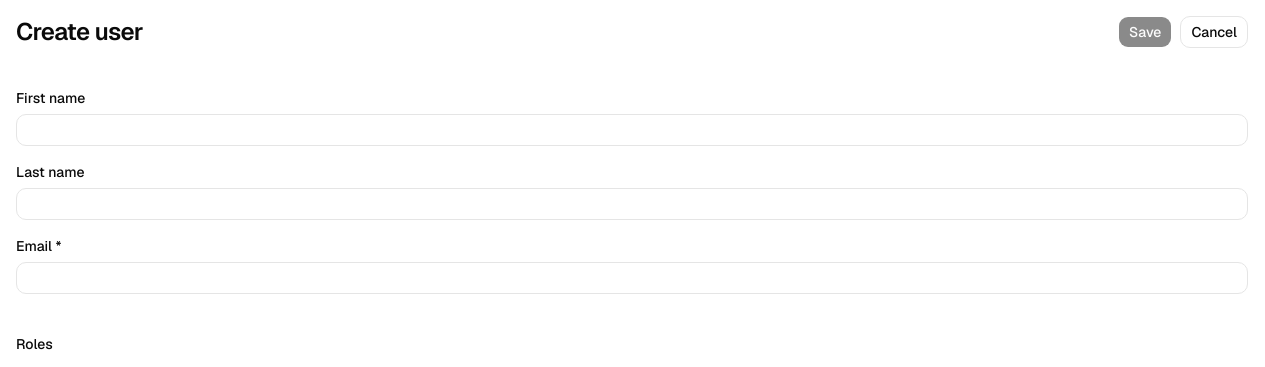
it: CreateUserForm › keeps submit disabled until the draft is dirty
expect the button with test id "create-user-submit" is disabled: met, box [1118,16,1172,48]
In the field with test id "create-user-email": (632, 278) [16,262,1248,294], type "ada@example.com"
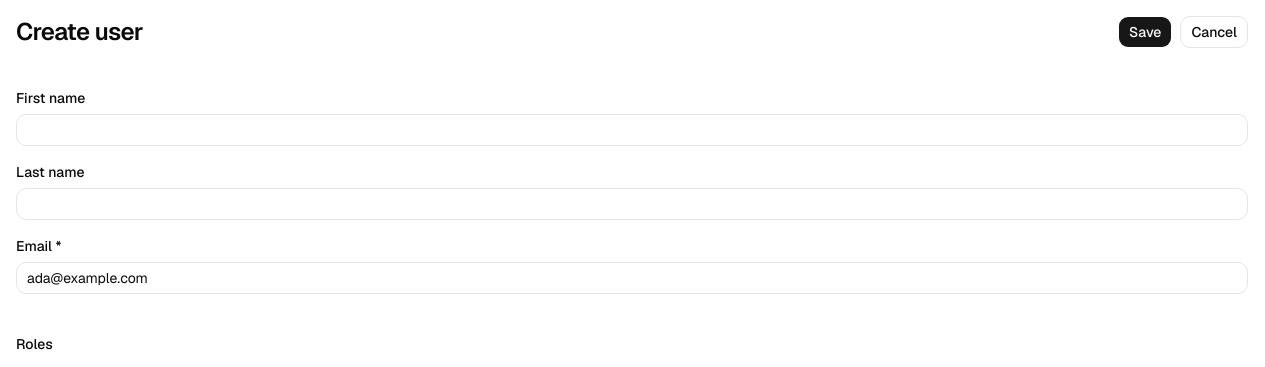
expect the button with test id "create-user-submit" is enabled: met, box [1118,16,1172,48]
